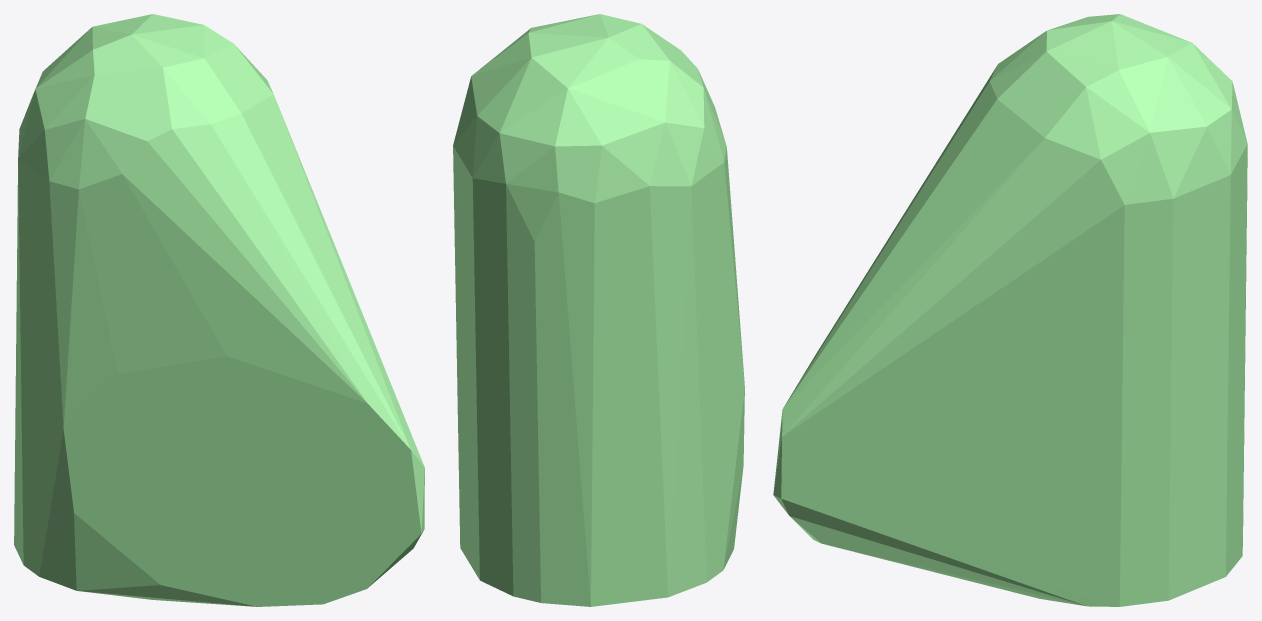
File: palle_scrotali_buone_C_link3_respondable_coll_1.dae
The picture shows the model from 3 angles, left to right: view 1: azimuth 30°, elevation 25°; view 2: azimuth 150°, elevation 25°; view 3: azimuth 270°, elevation 25°; orthographic projection.
Parts seen in each view (by area): view 1: Node_000002334E243BC0; view 2: Node_000002334E243BC0; view 3: Node_000002334E243BC0.
Part boxes in pixels (x1,y1,x2,y2): Node_000002334E243BC0: (14, 14, 424, 606); Node_000002334E243BC0: (453, 14, 744, 606); Node_000002334E243BC0: (773, 14, 1247, 606).
Size of the model in its own units: 0.1108 by 0.2266 by 0.1871.
